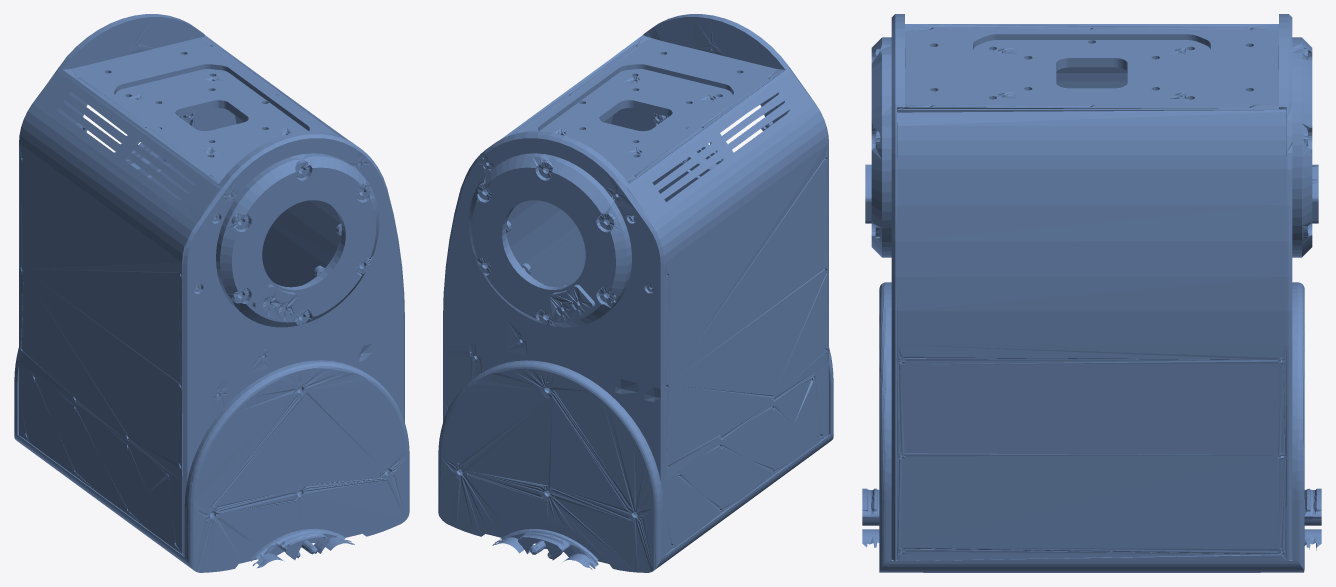
The model's file is A2R3_T4_Chest2.dae.
The picture shows the model from 3 angles, left to right: view 1: azimuth 30°, elevation 25°; view 2: azimuth 150°, elevation 25°; view 3: azimuth 270°, elevation 25°; orthographic projection. The views are drawn at different scales.
Parts seen in each view (by area): view 1: A2R3_T4_Chest; view 2: A2R3_T4_Chest; view 3: A2R3_T4_Chest.
Boxes of the visible parts, x1,y1,x2,y2 form: A2R3_T4_Chest: (14, 14, 409, 572); A2R3_T4_Chest: (438, 14, 833, 572); A2R3_T4_Chest: (862, 14, 1321, 572).
Bounding box in the file's own units: 0.1461 × 0.2184 × 0.2596.
